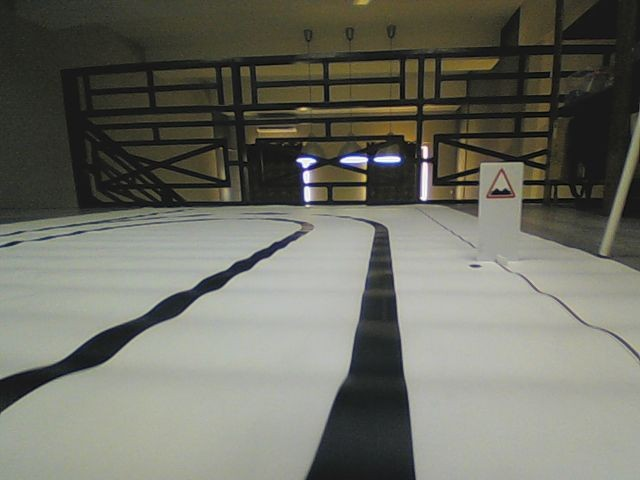Nerov: (484, 167, 518, 200)
